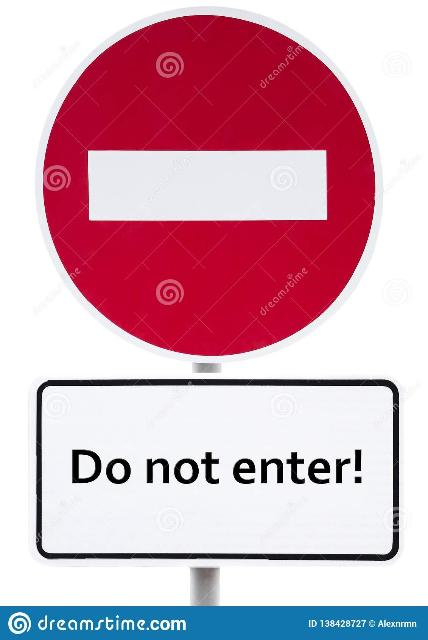B2: (34, 5, 384, 363)
